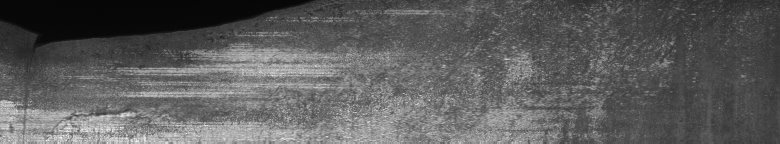kb: (4, 4, 749, 136)
